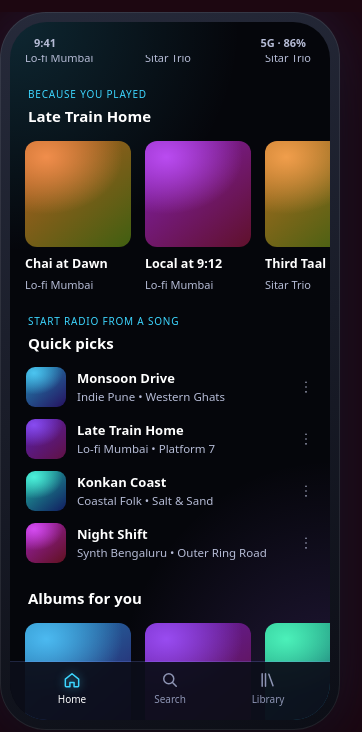
Scenario: Swar demo › opens the player from the mini player, likes the song, and it shows up in Library
(page scrolled)
Click the button with aria-label "Play Monsoon Drive by Indie Pune" at (149, 387), box x1=10 y1=361 x2=288 y2=413
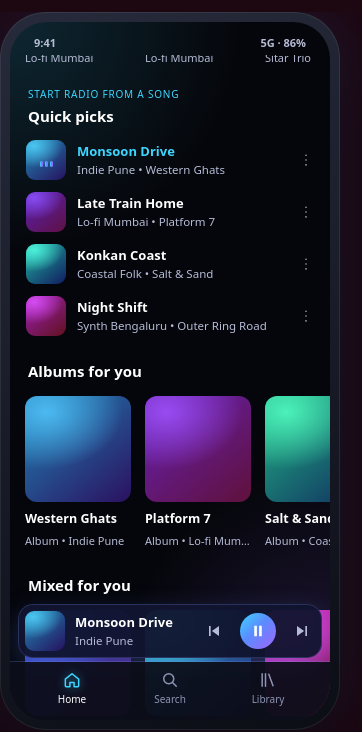
Click the button with aria-label "Open the player" at (170, 631), box x1=18 y1=604 x2=322 y2=658
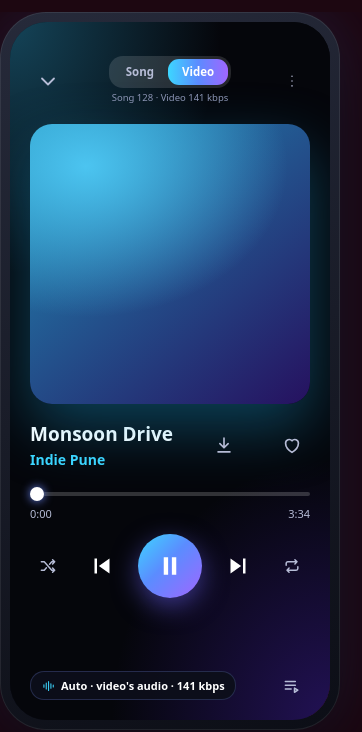
Click the button named "Like" at (292, 445), box x1=274 y1=427 x2=310 y2=463
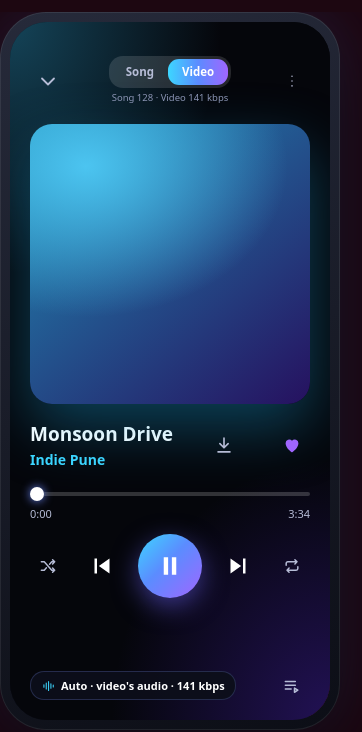
Expected: the button named "Unlike" is shown, x1=274 y1=427 x2=310 y2=463
Click the button named "Close the player" at (48, 81), box x1=30 y1=63 x2=66 y2=99
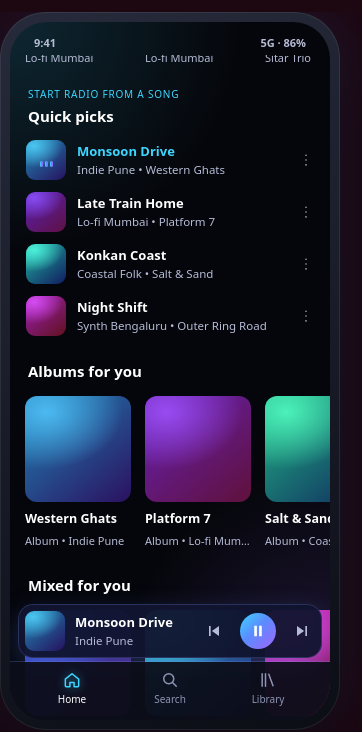
Click the button "Library" at (268, 689), box x1=232 y1=662 x2=304 y2=716
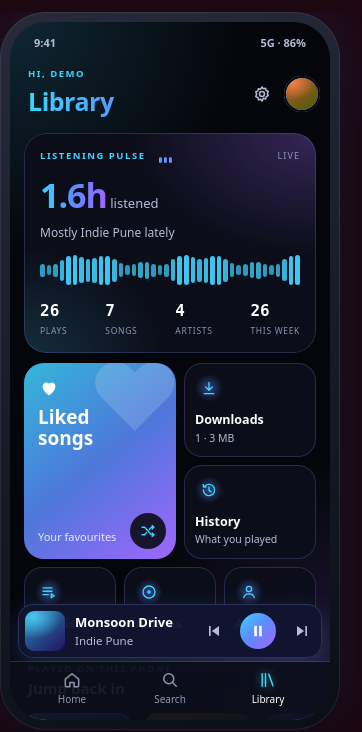
Click the button with aria-label "Liked songs" at (100, 461), box x1=24 y1=363 x2=176 y2=559
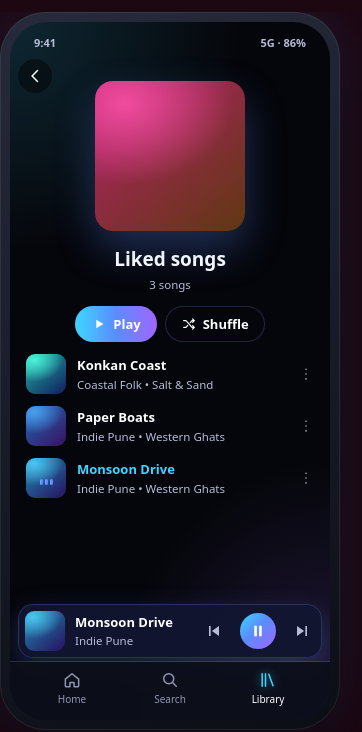
Expected: the button with aria-label "Play Monsoon Drive by Indie Pune" is shown, x1=10 y1=452 x2=288 y2=504
